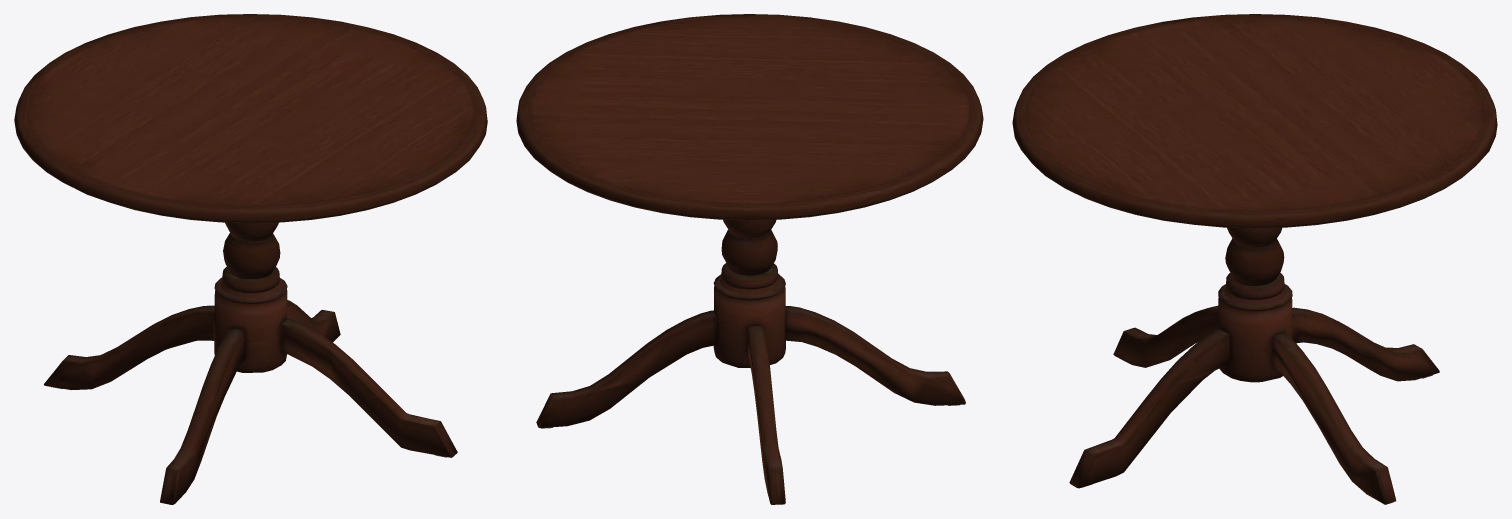
Rendered from round_wooden_table_01.glb.
The picture shows the model from 3 angles, left to right: view 1: azimuth 30°, elevation 25°; view 2: azimuth 150°, elevation 25°; view 3: azimuth 270°, elevation 25°; orthographic projection. The views are drawn at different scales.
Visible parts, largest first — view 1: round_wooden_table_01; view 2: round_wooden_table_01; view 3: round_wooden_table_01.
Boxes of the visible parts, x1,y1,x2,y2 form: round_wooden_table_01: [14, 14, 487, 504]; round_wooden_table_01: [516, 14, 983, 504]; round_wooden_table_01: [1012, 14, 1497, 504].
Size of the model in its own units: 1.4 by 1 by 1.4.
Materials: 1 (1 with a texture image).
